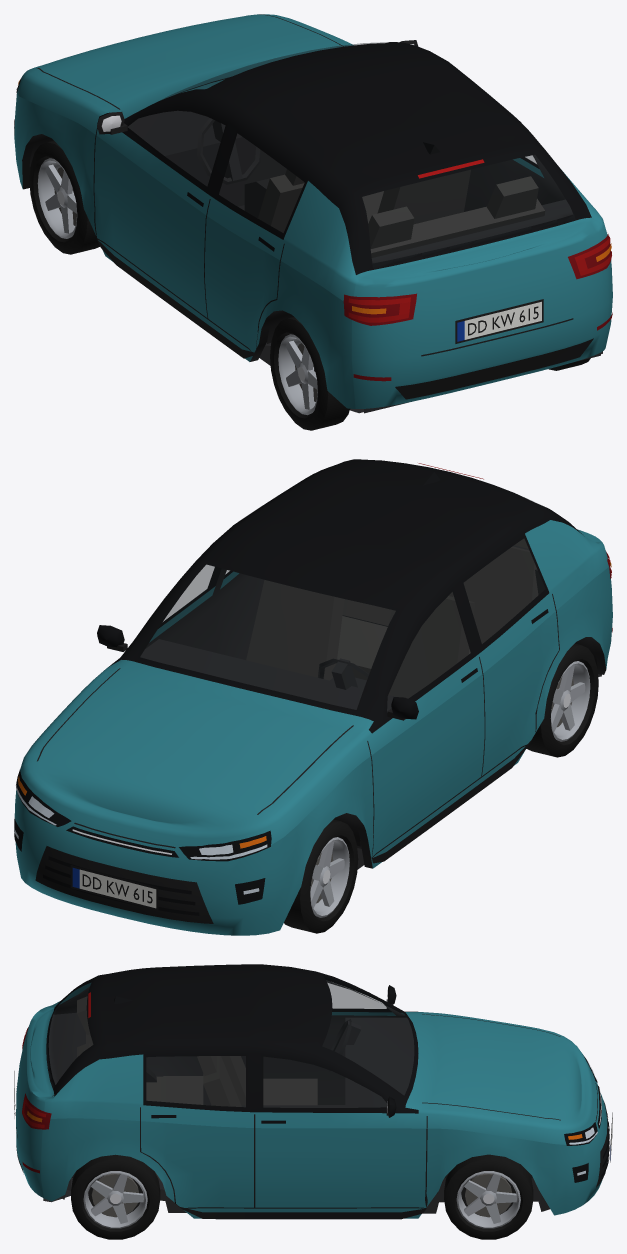
File: kleinwagen_modern.glb
The picture shows the model from 3 angles, top to bottom: view 1: azimuth 30°, elevation 25°; view 2: azimuth 150°, elevation 25°; view 3: azimuth 270°, elevation 25°; orthographic projection. The views are drawn at different scales.
Parts seen in each view (by area): view 1: Body, Glass, Interior, Lights, Tire_RL, Tire_FL, Rim_FL, Rim_RL; view 2: Body, Glass, Interior, Tire_FL, Tire_RL, Rim_FL, Rim_RL, Lights; view 3: Body, Glass, Interior, Tire_FR, Tire_RR, Rim_FR, Rim_RR, Lights.
Boxes of the visible parts, <box> form: Body: <box>14,14,612,408</box>; Glass: <box>128,42,575,268</box>; Interior: <box>128,110,602,413</box>; Lights: <box>14,80,612,381</box>; Tire_RL: <box>270,317,349,430</box>; Tire_FL: <box>29,140,99,254</box>; Rim_FL: <box>37,158,77,238</box>; Rim_RL: <box>278,334,317,415</box>; Body: <box>14,459,612,935</box>; Glass: <box>141,498,544,710</box>; Interior: <box>140,538,601,848</box>; Tire_FL: <box>284,819,358,933</box>; Tire_RL: <box>526,643,598,757</box>; Rim_FL: <box>310,837,349,917</box>; Rim_RL: <box>550,661,590,741</box>; Lights: <box>14,463,612,894</box>; Body: <box>14,964,612,1219</box>; Glass: <box>47,975,413,1107</box>; Interior: <box>43,980,414,1202</box>; Tire_FR: <box>444,1154,533,1239</box>; Tire_RR: <box>71,1154,160,1239</box>; Rim_FR: <box>456,1171,520,1228</box>; Rim_RR: <box>83,1171,147,1228</box>; Lights: <box>22,992,597,1175</box>.
Size of the model in its own units: 1.97 by 1.45 by 4.09.
